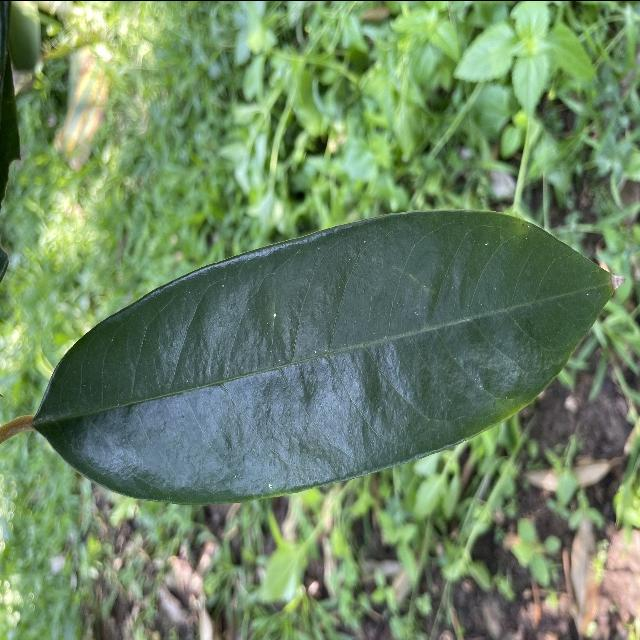No Disease: (31, 199, 627, 517)
